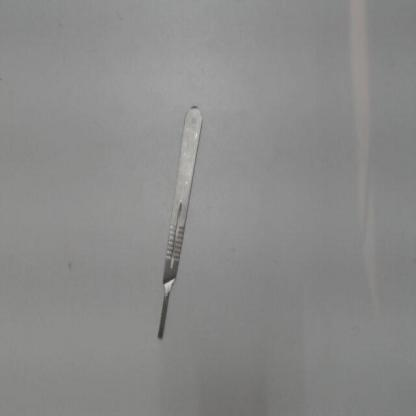No.4 BP Handle: (149, 91, 209, 349)
